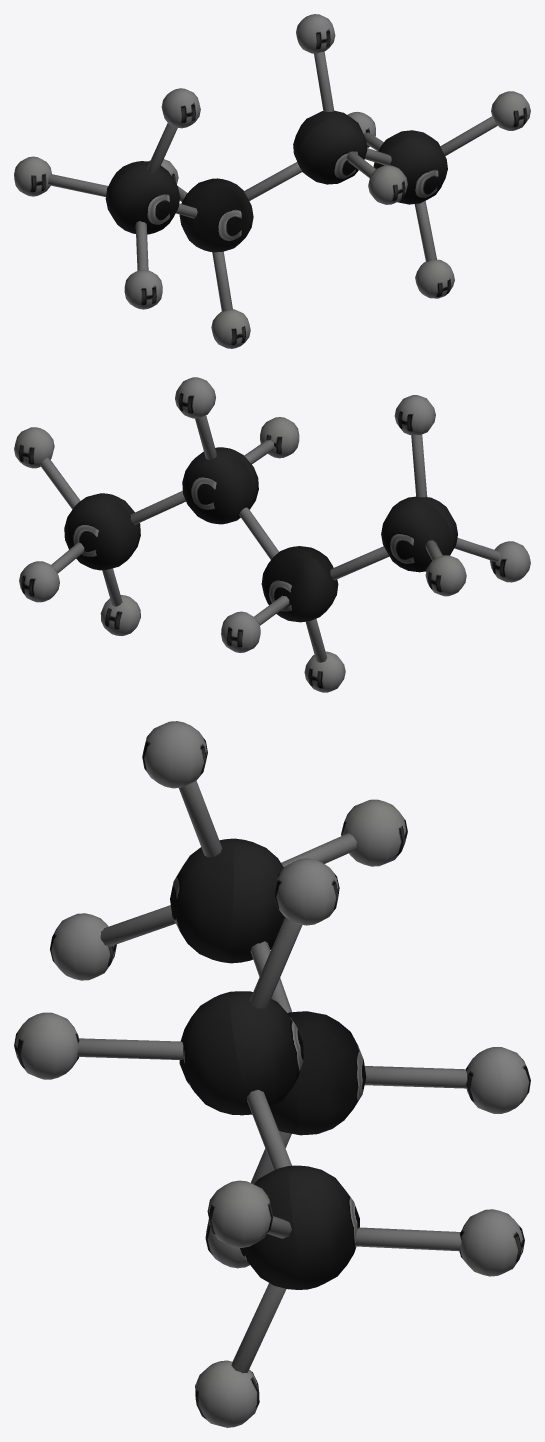
File: Butane.gltf
The picture shows the model from 3 angles, top to bottom: view 1: azimuth 30°, elevation 25°; view 2: azimuth 150°, elevation 25°; view 3: azimuth 270°, elevation 25°; orthographic projection. The views are drawn at different scales.
Visible parts, largest first — view 1: C_Atom_44, C_Atom_45, C_Atom_42, C_Atom_43, H_Atom_97, H_Atom_98, H_Atom_102, H_Atom_105, H_Atom_103, H_Atom_101, H_Atom_100, H_Atom_99 (+8 smaller); view 2: C_Atom_45, C_Atom_43, C_Atom_44, C_Atom_42, H_Atom_106, H_Atom_99, H_Atom_102, H_Atom_104, H_Atom_98, H_Atom_103, H_Atom_97, H_Atom_100 (+13 smaller); view 3: C_Atom_45, C_Atom_42, C_Atom_43, C_Atom_44, H_Atom_102, H_Atom_103, H_Atom_98, H_Atom_105, H_Atom_104, H_Atom_106, H_Atom_101, H_Atom_99 (+11 smaller).
Boxes of the visible parts, x1,y1,x2,y2 form: C_Atom_44: (179,178,253,252); C_Atom_45: (293,110,367,184); C_Atom_42: (105,161,179,234); C_Atom_43: (373,130,447,204); H_Atom_97: (124,269,162,309); H_Atom_98: (161,88,200,128); H_Atom_102: (296,14,335,53); H_Atom_105: (368,165,407,204); H_Atom_103: (491,91,530,130); H_Atom_101: (415,259,454,298); H_Atom_100: (211,309,250,348); H_Atom_99: (14,156,51,196); C_Atom_45: (182,447,258,524); C_Atom_43: (64,493,140,570); C_Atom_44: (261,546,338,622); C_Atom_42: (381,496,457,572); H_Atom_106: (19,561,59,602); H_Atom_99: (425,555,466,596); H_Atom_102: (175,377,215,418); H_Atom_104: (221,611,260,652); H_Atom_98: (394,395,435,435); H_Atom_103: (14,427,54,468); H_Atom_97: (490,541,530,582); H_Atom_100: (304,651,345,692); C_Atom_45: (179,991,303,1115); C_Atom_42: (170,838,284,963); C_Atom_43: (240,1165,359,1289); C_Atom_44: (270,1011,366,1135); H_Atom_102: (274,858,339,925); H_Atom_103: (207,1180,273,1247); H_Atom_98: (142,721,207,788); H_Atom_105: (14,1012,79,1079); H_Atom_104: (465,1047,530,1113); H_Atom_106: (459,1209,524,1276); H_Atom_101: (195,1360,259,1427); H_Atom_99: (341,799,407,866).
Bounding box in the file's own units: 3.27 × 1.92 × 1.84.
1 material, 1 textured.
